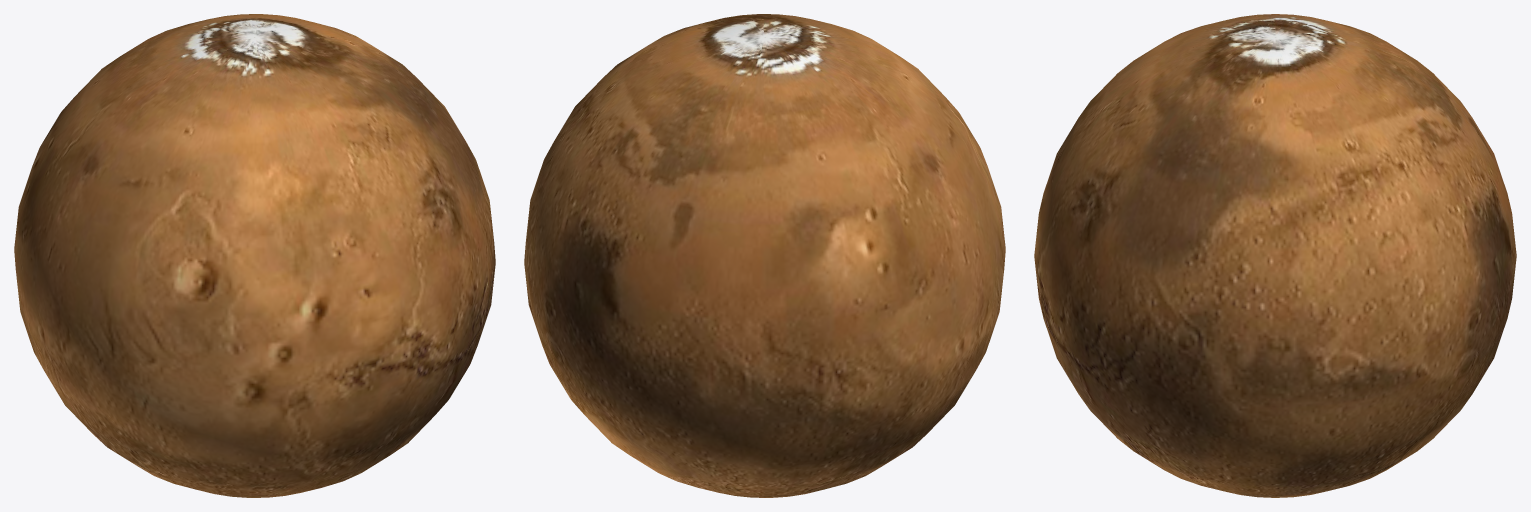
File: marte.glb
The picture shows the model from 3 angles, left to right: view 1: azimuth 30°, elevation 25°; view 2: azimuth 150°, elevation 25°; view 3: azimuth 270°, elevation 25°; orthographic projection.
Parts seen in each view (by area): view 1: Material_001-material; view 2: Material_001-material; view 3: Material_001-material.
Boxes of the visible parts, x1,y1,x2,y2 form: Material_001-material: [14, 14, 495, 497]; Material_001-material: [524, 14, 1005, 497]; Material_001-material: [1034, 14, 1516, 497].
Bounding box in the file's own units: 1.98 × 1.98 × 1.98.
Materials: 1 (1 with a texture image).
